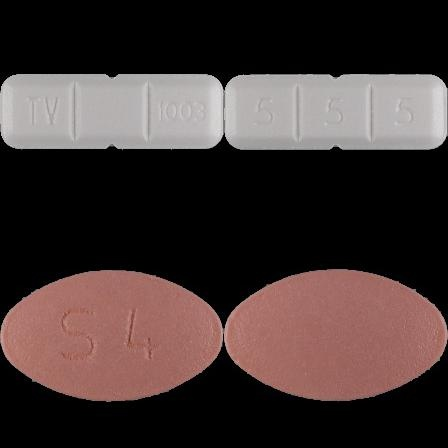42254-126: (0, 0, 224, 224)
